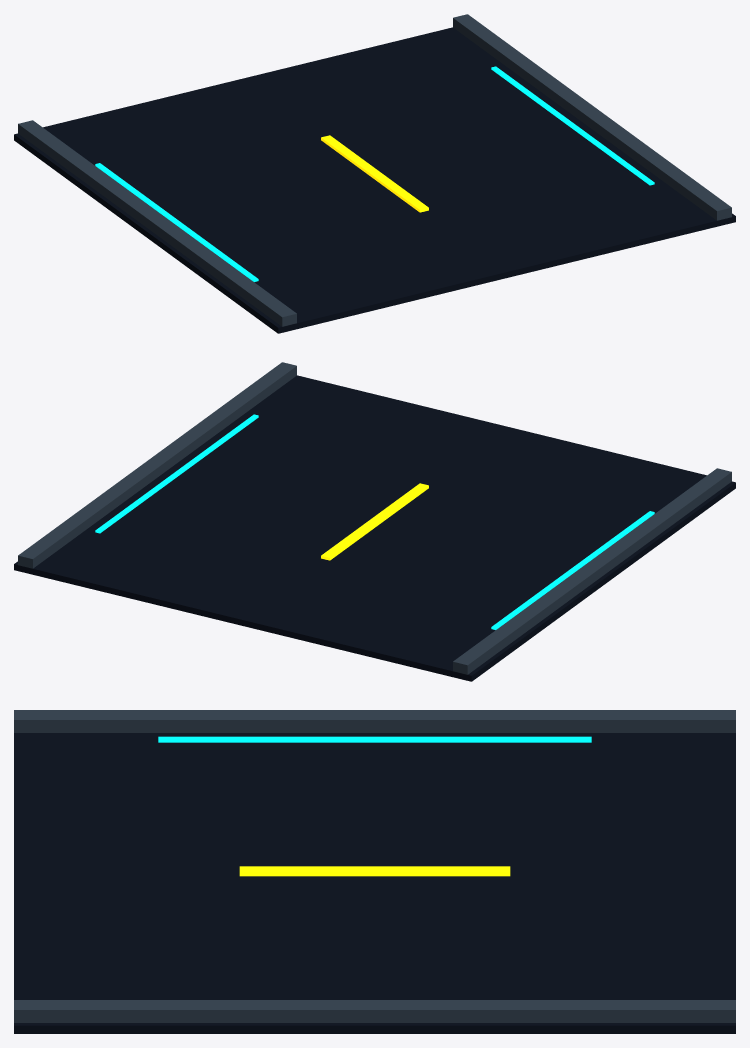
Rendered from road.glb.
3 renders of one model, top to bottom at view 1: azimuth 30°, elevation 25°; view 2: azimuth 150°, elevation 25°; view 3: azimuth 270°, elevation 25°, orthographic. The views are drawn at different scales.
Visible parts, largest first — view 1: Road slab, Curb, Curb.001, Lane dash, Guidance strip.001, Guidance strip; view 2: Road slab, Curb, Curb.001, Lane dash, Guidance strip.001, Guidance strip; view 3: Road slab, Curb, Curb.001, Guidance strip, Lane dash.
Part boxes in pixels (x1=…): Road slab: x1=14, y1=27, x2=735, y2=333; Curb: x1=18, y1=120, x2=296, y2=326; Curb.001: x1=453, y1=14, x2=731, y2=220; Lane dash: x1=321, y1=135, x2=428, y2=212; Guidance strip.001: x1=491, y1=66, x2=654, y2=185; Guidance strip: x1=95, y1=163, x2=258, y2=281; Road slab: x1=14, y1=375, x2=735, y2=681; Curb: x1=453, y1=468, x2=731, y2=674; Curb.001: x1=18, y1=362, x2=296, y2=568; Lane dash: x1=321, y1=483, x2=428, y2=560; Guidance strip.001: x1=95, y1=414, x2=258, y2=533; Guidance strip: x1=491, y1=511, x2=654, y2=629; Road slab: x1=14, y1=733, x2=735, y2=1033; Curb: x1=14, y1=710, x2=735, y2=732; Curb.001: x1=14, y1=1000, x2=735, y2=1022; Guidance strip: x1=158, y1=736, x2=591, y2=742; Lane dash: x1=239, y1=866, x2=510, y2=876.
Size of the model in its own units: 4 by 0.13 by 4.
